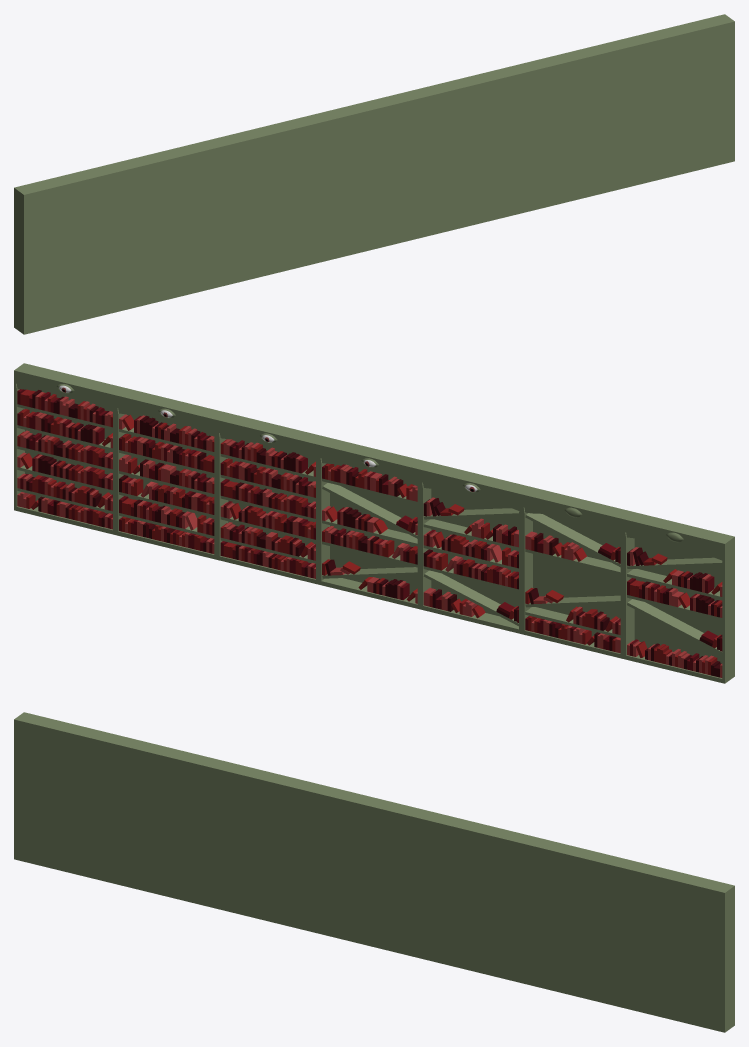
The model's file is bookshelf.fbx.
The picture shows the model from 3 angles, top to bottom: view 1: azimuth 30°, elevation 25°; view 2: azimuth 150°, elevation 25°; view 3: azimuth 330°, elevation 25°; orthographic projection.
Visible parts, largest first — view 1: MissingShelfConfig2, SlantedShelfConfig2, SlantedShelfConfig1, FullShelfConfig3, FullShelfConfig1, MissingShelfConfig1, FullShelfConfig2; view 2: MissingShelfConfig2, SlantedShelfConfig2, SlantedShelfConfig1, FullShelfConfig3, FullShelfConfig1, MissingShelfConfig1, FullShelfConfig2; view 3: FullShelfConfig1, SlantedShelfConfig2, FullShelfConfig3, SlantedShelfConfig1, MissingShelfConfig2, FullShelfConfig2, MissingShelfConfig1.
Part boxes in pixels (<box>): MissingShelfConfig2: <box>14,163,125,334</box>; SlantedShelfConfig2: <box>319,88,430,260</box>; SlantedShelfConfig1: <box>217,113,328,285</box>; FullShelfConfig3: <box>420,63,531,235</box>; FullShelfConfig1: <box>624,14,734,185</box>; MissingShelfConfig1: <box>116,138,226,309</box>; FullShelfConfig2: <box>522,39,633,210</box>; MissingShelfConfig2: <box>623,512,734,683</box>; SlantedShelfConfig2: <box>318,437,429,609</box>; SlantedShelfConfig1: <box>420,462,531,634</box>; FullShelfConfig3: <box>217,412,328,584</box>; FullShelfConfig1: <box>14,363,124,534</box>; MissingShelfConfig1: <box>522,487,632,658</box>; FullShelfConfig2: <box>115,388,226,559</box>; FullShelfConfig1: <box>623,861,734,1032</box>; SlantedShelfConfig2: <box>318,786,429,958</box>; FullShelfConfig3: <box>420,811,531,983</box>; SlantedShelfConfig1: <box>217,761,328,933</box>; MissingShelfConfig2: <box>14,712,124,883</box>; FullShelfConfig2: <box>522,836,632,1007</box>; MissingShelfConfig1: <box>115,737,226,908</box>.
Bounding box in the file's own units: 26.6 × 5 × 0.7312.
